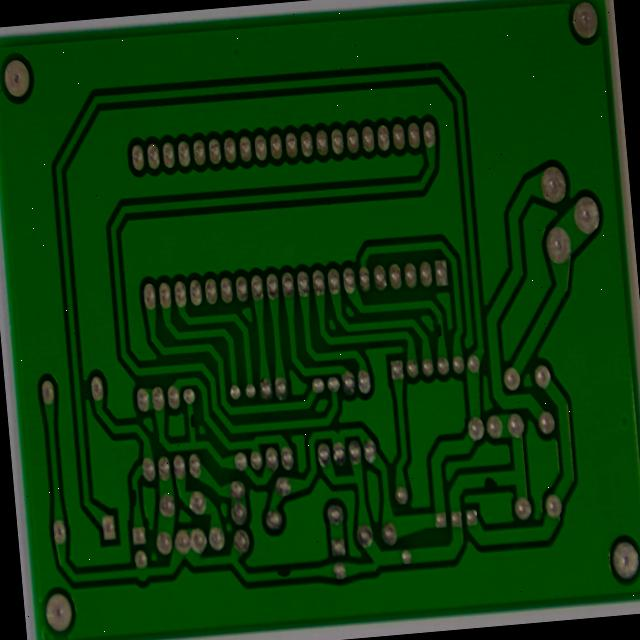mouse_bite: (252, 551, 282, 582), (469, 456, 495, 482), (419, 287, 439, 315), (103, 467, 118, 499), (163, 388, 178, 410)
